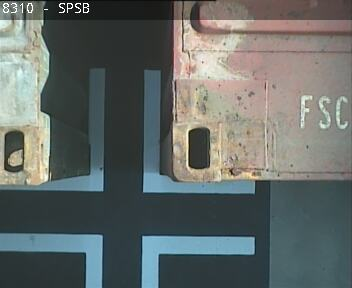groundmarker_1: (1, 73, 253, 191), (1, 234, 254, 288)
